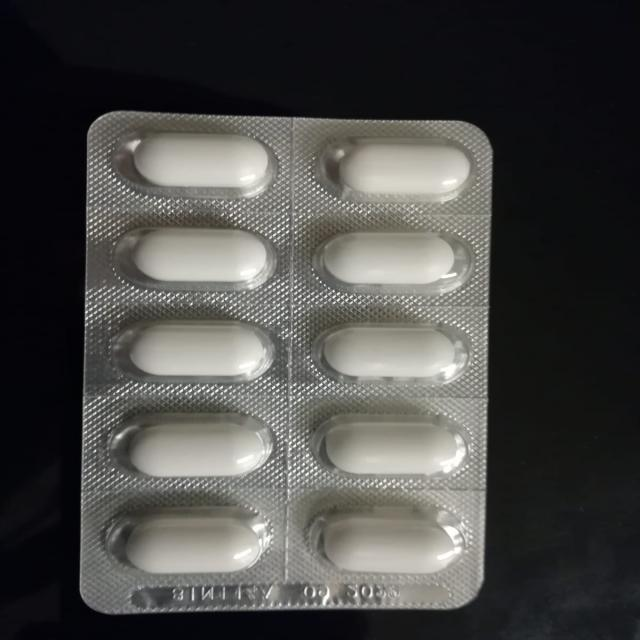Pill: (91, 499, 281, 580), (96, 317, 290, 393), (93, 407, 279, 484), (298, 221, 484, 295), (110, 121, 281, 199), (308, 411, 480, 486), (320, 132, 485, 207), (109, 223, 294, 289), (310, 511, 470, 580), (308, 319, 464, 384)
